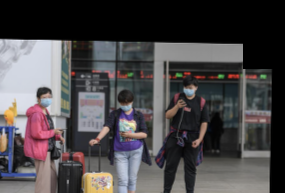with_mask: (38, 90, 52, 108), (182, 84, 196, 98), (118, 99, 130, 113)
